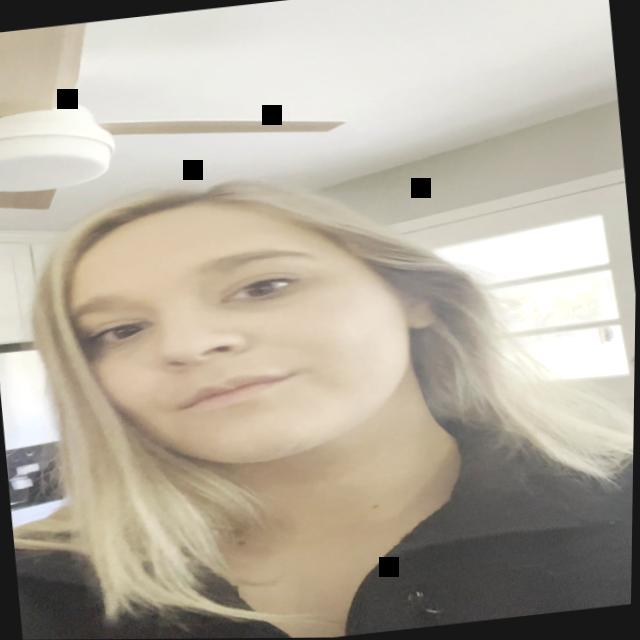NO-Mask: (39, 184, 449, 520)
